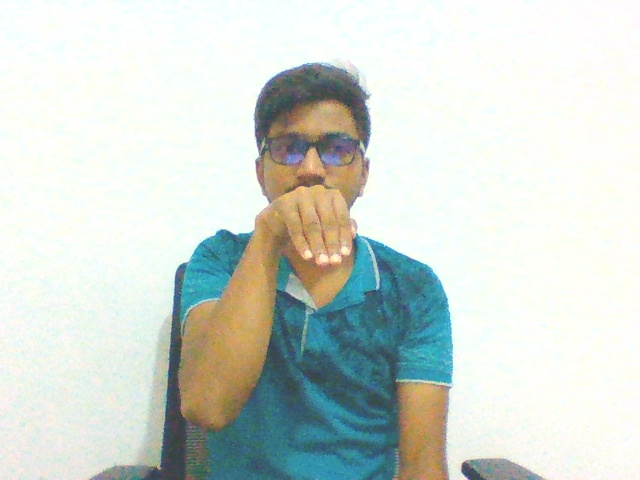Squirrel: (240, 171, 368, 281)
